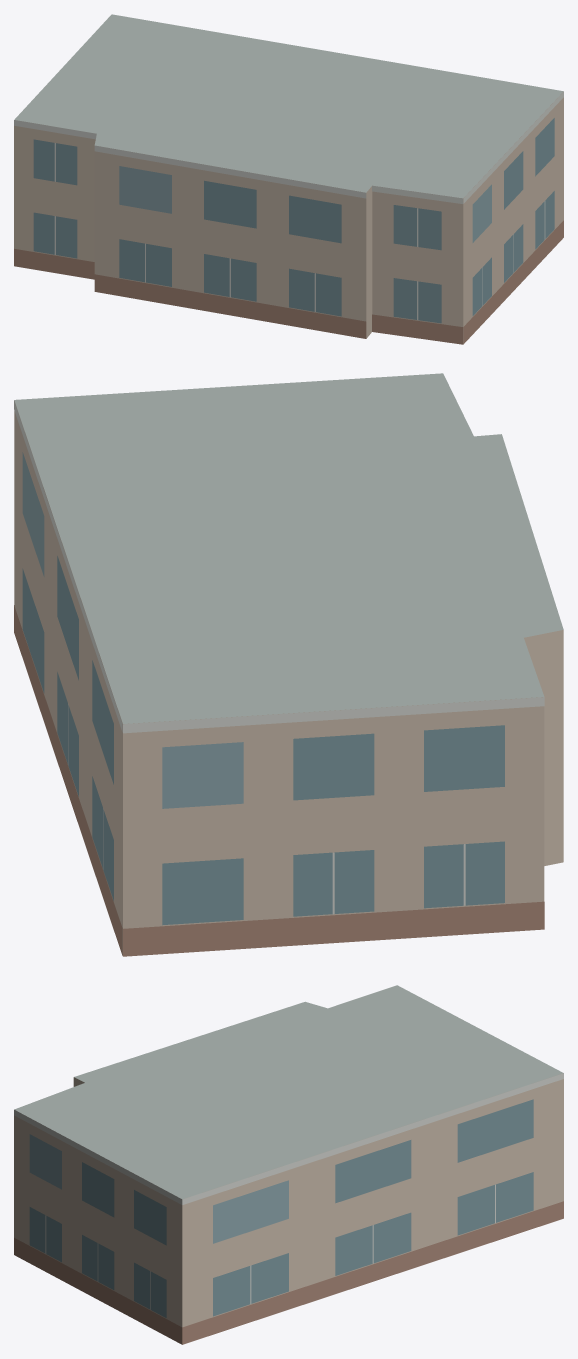
The model's file is survey-upis-32670600.glb.
3 views of the same model, one above another, from view 1: azimuth 30°, elevation 25°; view 2: azimuth 150°, elevation 25°; view 3: azimuth 270°, elevation 25° (orthographic). The views are drawn at different scales.
Parts seen in each view (by area): view 1: survey-upis-32670600.tmp; view 2: survey-upis-32670600.tmp; view 3: survey-upis-32670600.tmp.
Part boxes in pixels (x1,y1,x2,y2): survey-upis-32670600.tmp: (14, 14, 563, 344); survey-upis-32670600.tmp: (14, 373, 563, 956); survey-upis-32670600.tmp: (14, 985, 563, 1344).
Size of the model in its own units: 19.28 by 6.1 by 20.91.
